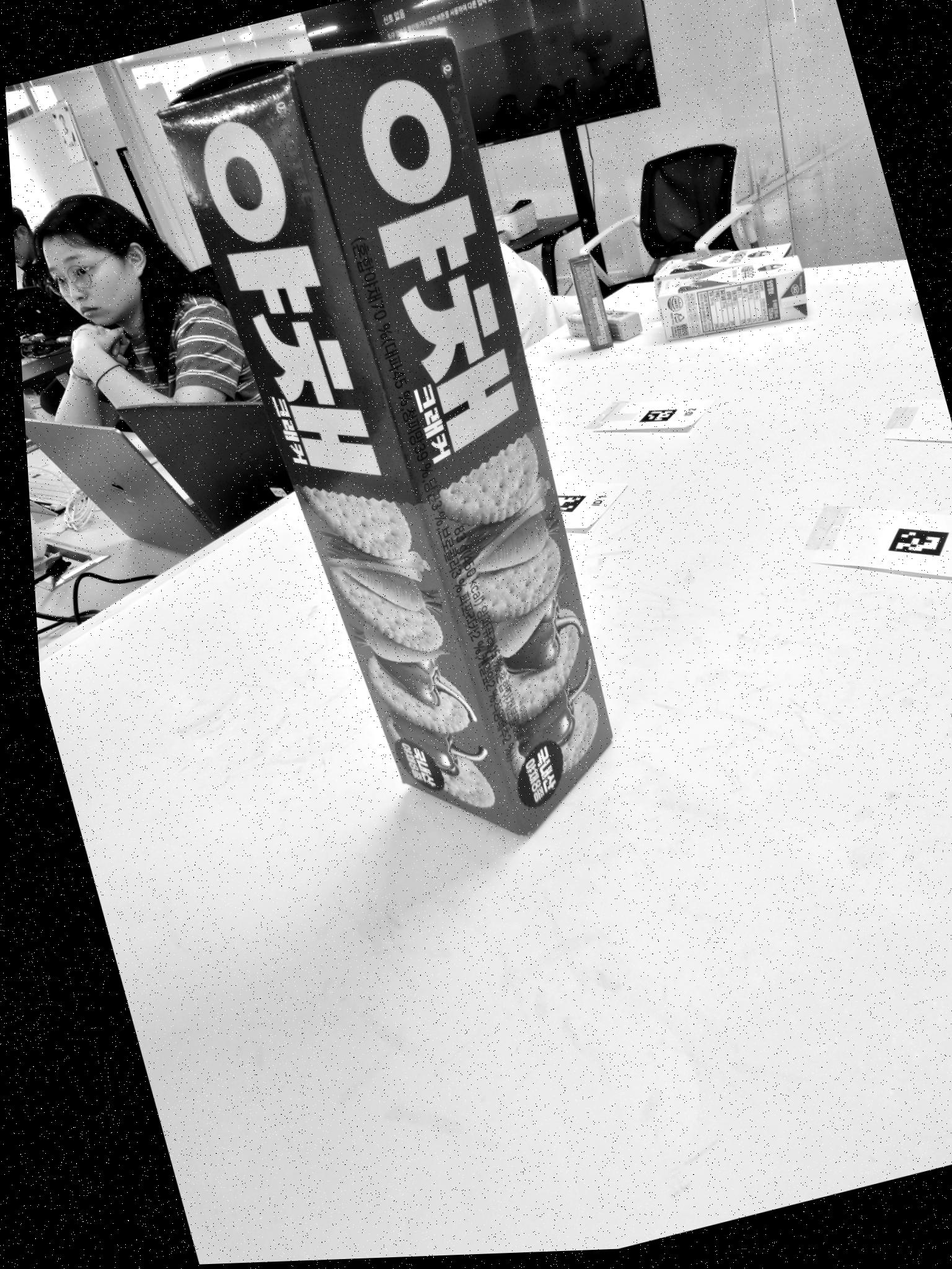cracker_vege: (159, 37, 612, 834)
